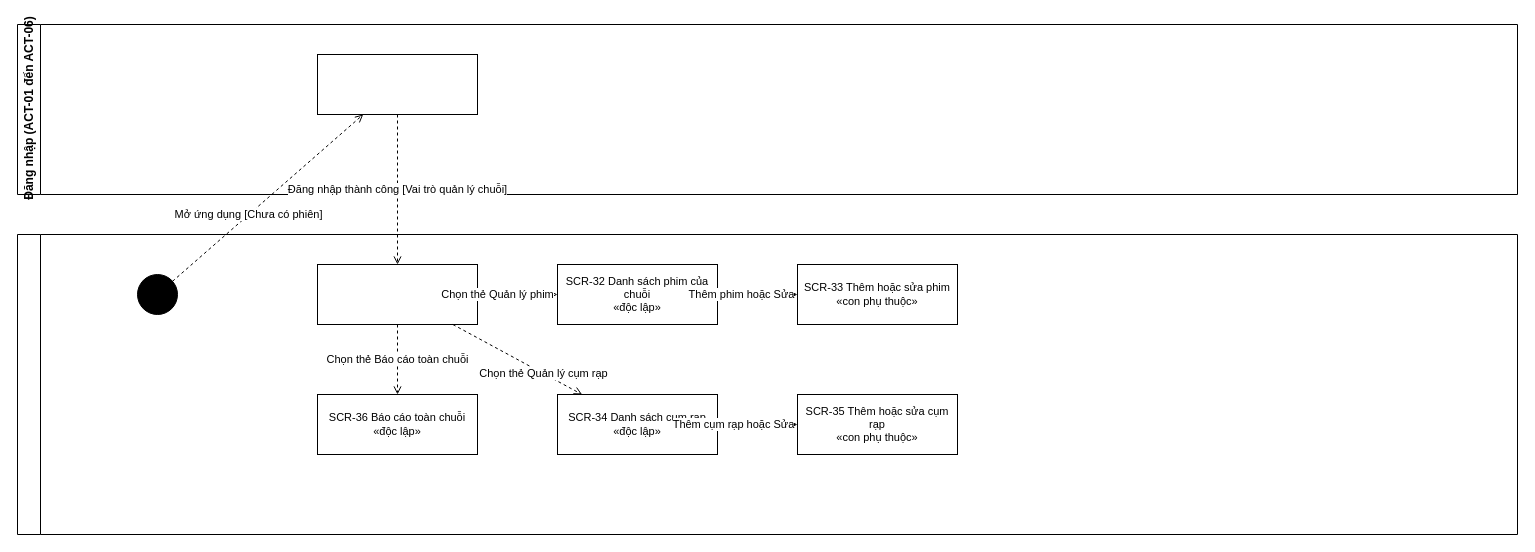
Some shapes in this 1535 by 552 pixel diagram are drawn without their labels. The shapes that lost their labels are listed below. From the top down, each one's box as (x1, y1, x2, y2) in pixels, then its label:
(316, 54, 478, 114): SCR-21 Đăng nhập nhân viên «độc lập»
(316, 264, 478, 324): SCR-31 Trang chủ quản lý chuỗi «độc lập»
(16, 234, 1518, 534): ACT-05 Quản lý chuỗi
